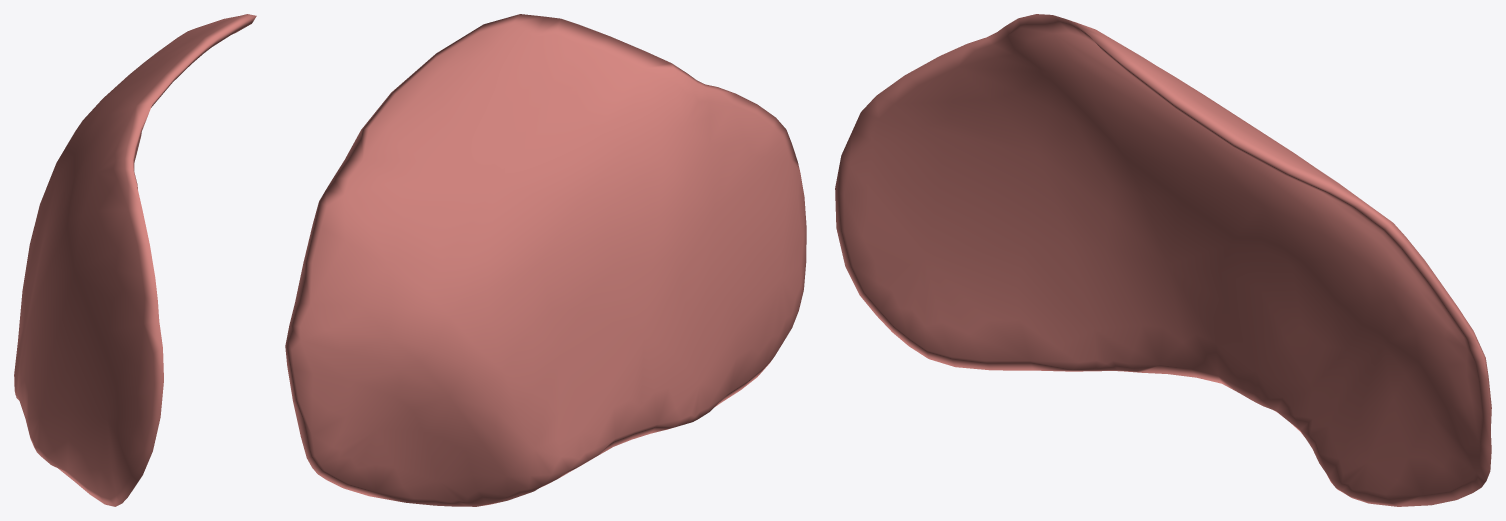
3 views of the same model, side by side, from view 1: azimuth 30°, elevation 25°; view 2: azimuth 150°, elevation 25°; view 3: azimuth 270°, elevation 25° (orthographic). The views are drawn at different scales.
Parts seen in each view (by area): view 1: ZA_84c8159fcdf0e73c; view 2: ZA_84c8159fcdf0e73c; view 3: ZA_84c8159fcdf0e73c.
Boxes of the visible parts, left/top/right/bottom form: ZA_84c8159fcdf0e73c: left=14, top=14, right=256, bottom=506; ZA_84c8159fcdf0e73c: left=285, top=14, right=806, bottom=506; ZA_84c8159fcdf0e73c: left=835, top=14, right=1491, bottom=506.
Size of the model in its own units: 0.0104 by 0.0147 by 0.018.
